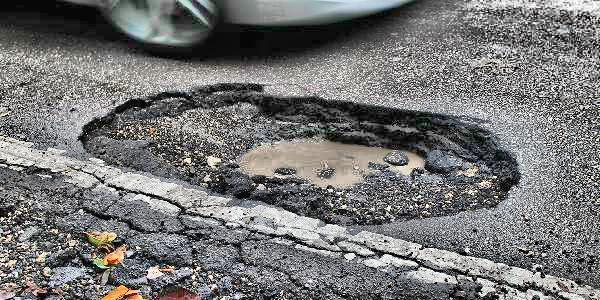pothole: (144, 78, 523, 228)
